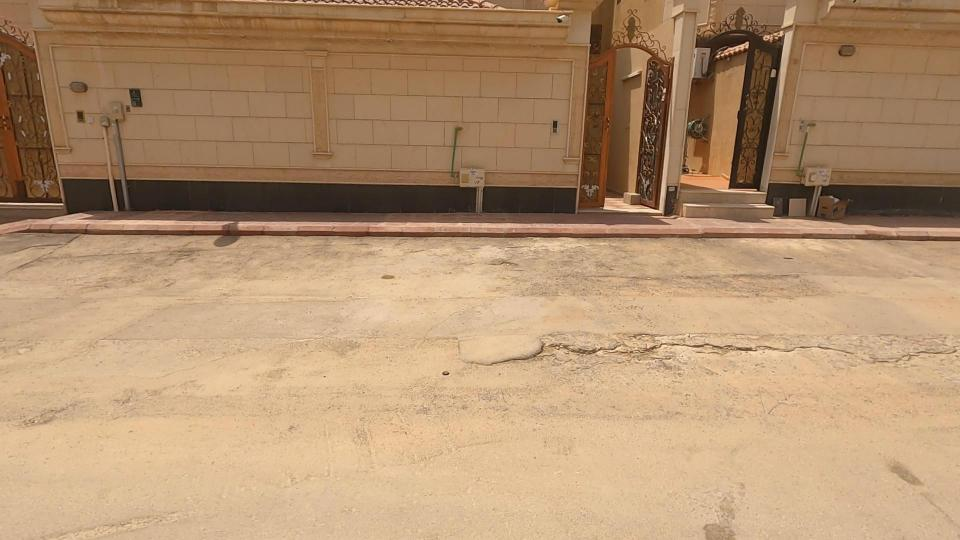POTHOLES: (413, 260, 780, 425), (655, 296, 860, 399)
